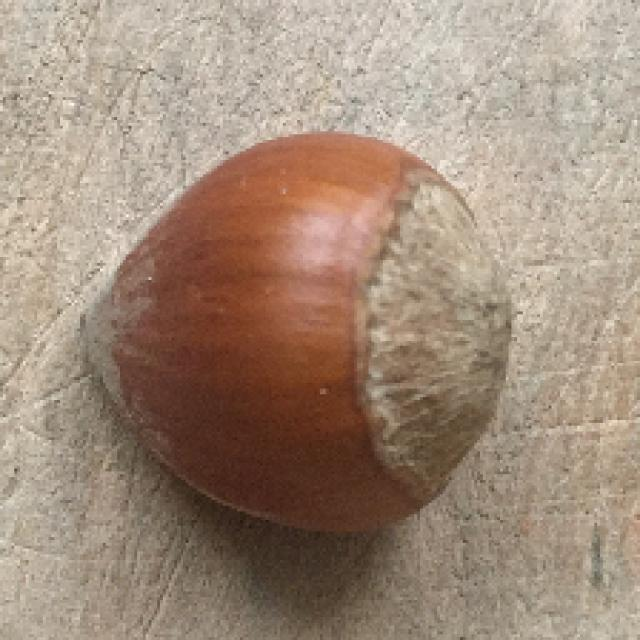qualityHazelnut: (84, 129, 514, 532)
